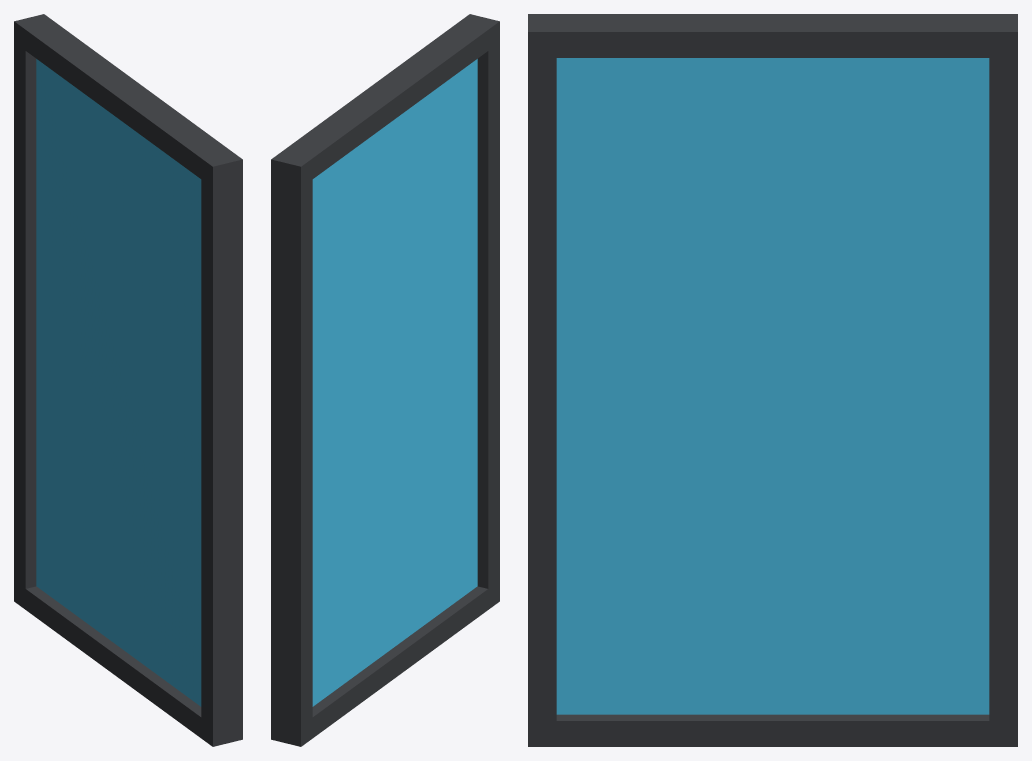
The model's file is Door_1.fbx.
3 views of the same model, side by side, from view 1: azimuth 30°, elevation 25°; view 2: azimuth 150°, elevation 25°; view 3: azimuth 270°, elevation 25° (orthographic). The views are drawn at different scales.
Parts seen in each view (by area): view 1: Door_1; view 2: Door_1; view 3: Door_1.
Boxes of the visible parts, bbox=[...] form: Door_1: bbox=[14, 14, 242, 746]; Door_1: bbox=[271, 14, 499, 746]; Door_1: bbox=[528, 14, 1017, 746].
Size of the model in its own units: 16.23 by 300 by 186.
